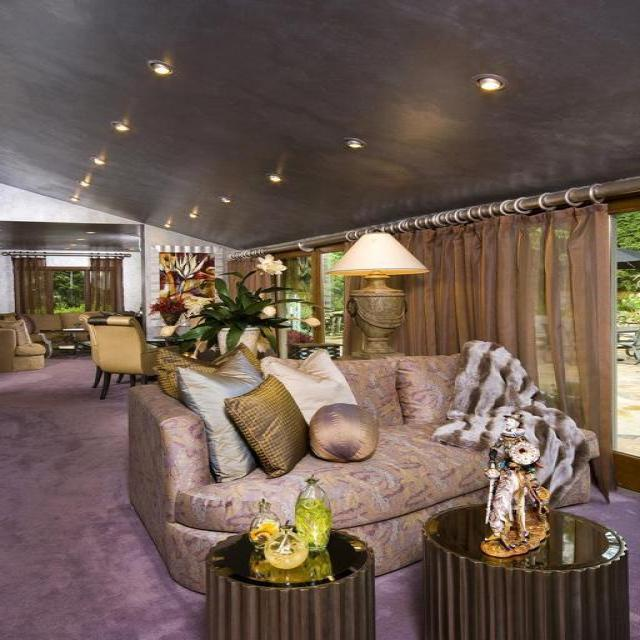plants: (174, 252, 321, 359)
sofa: (125, 339, 600, 595)
table: (204, 527, 375, 639)
table-lamp: (325, 230, 430, 355)
